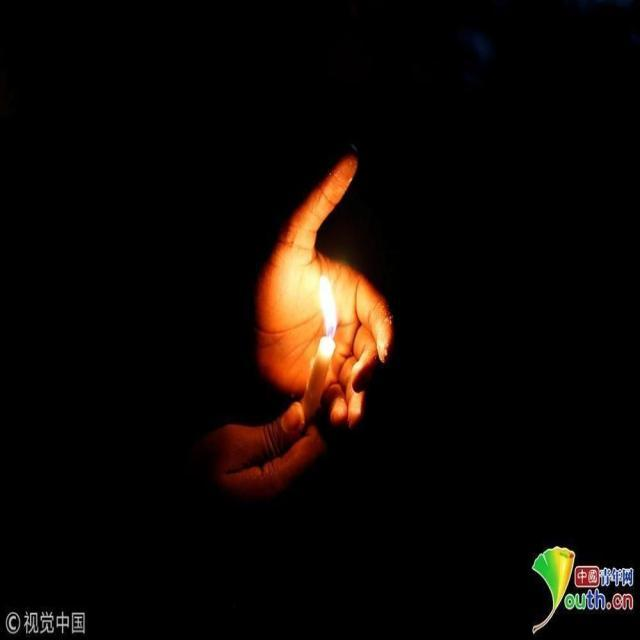Fire: (317, 274, 337, 340)
